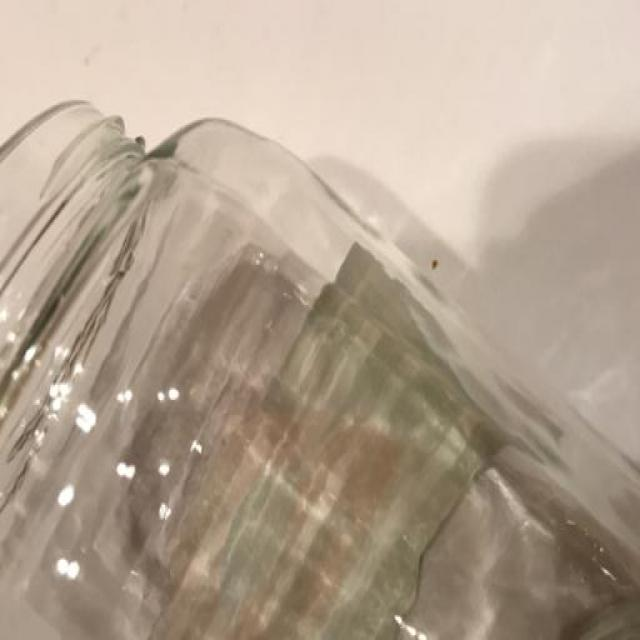glass: (1, 79, 640, 640)
